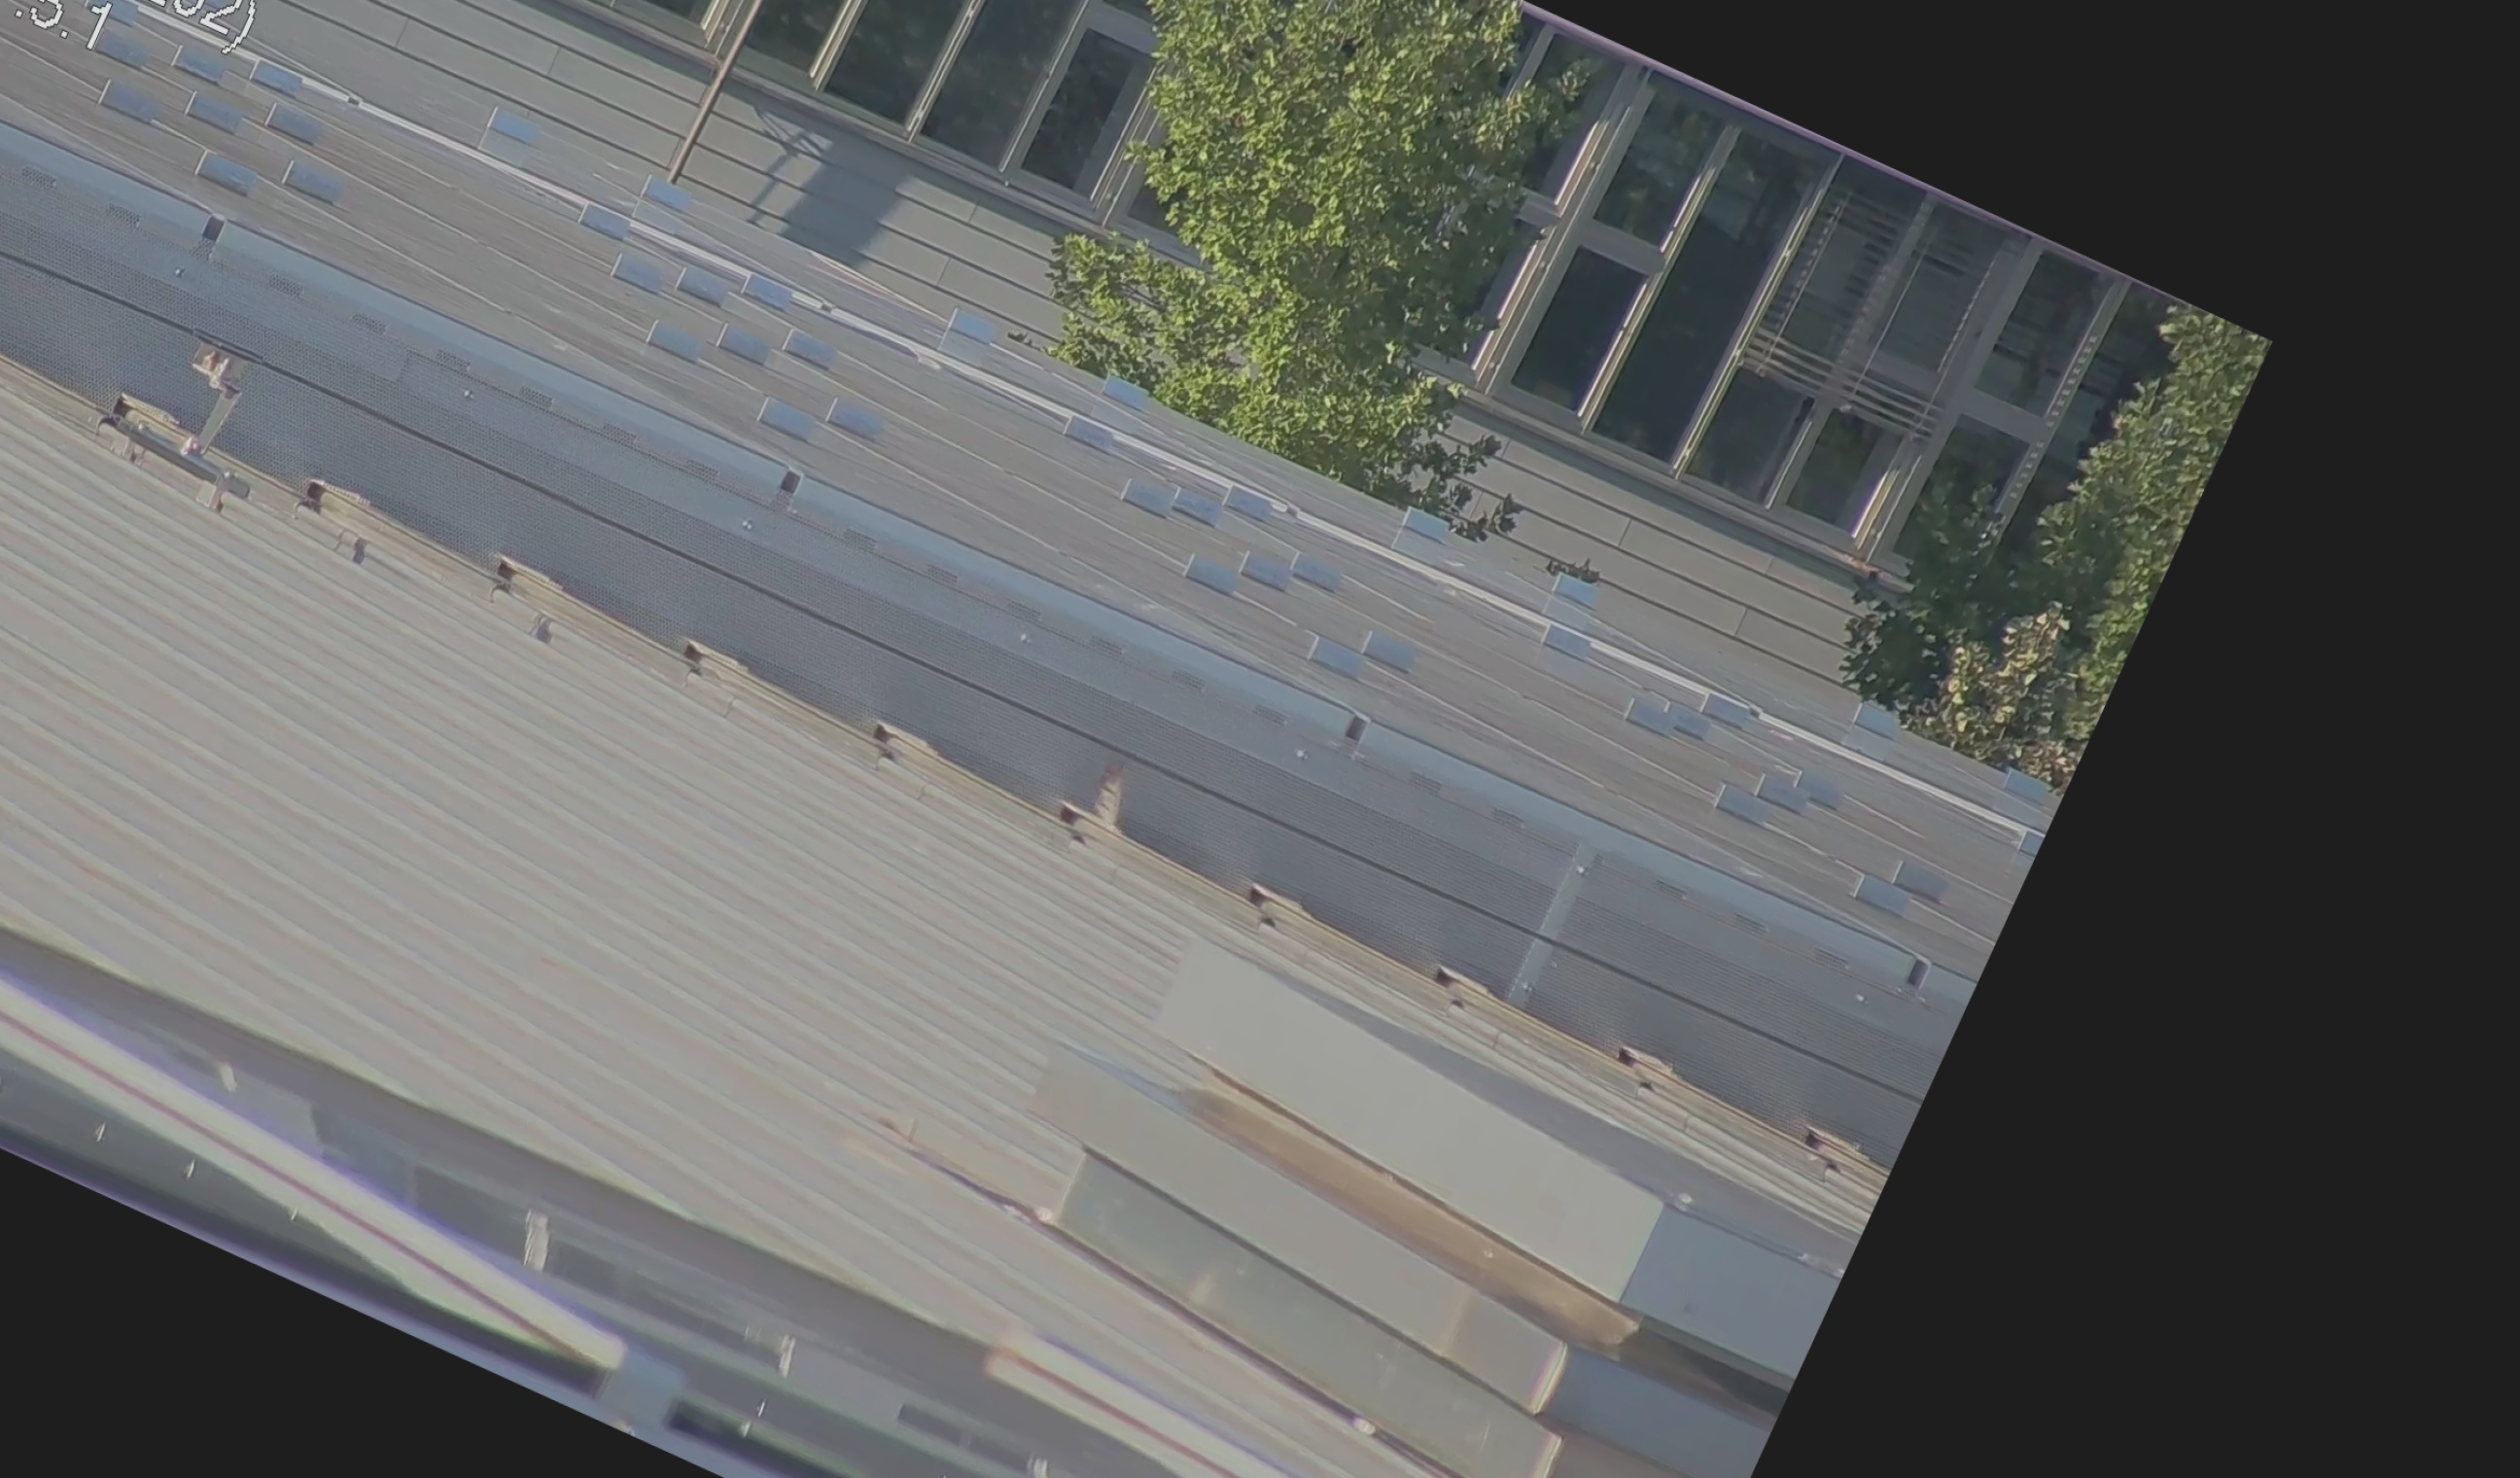Other: (1052, 730, 1164, 864)
